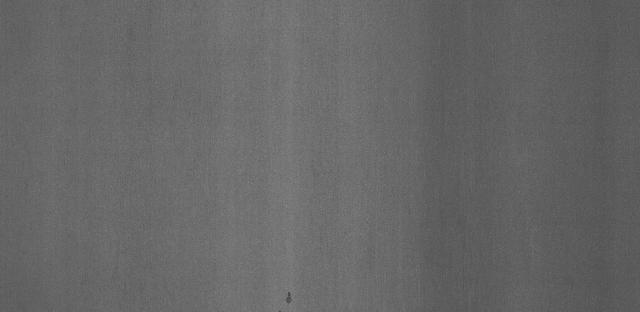inclusion: (280, 287, 300, 307)
